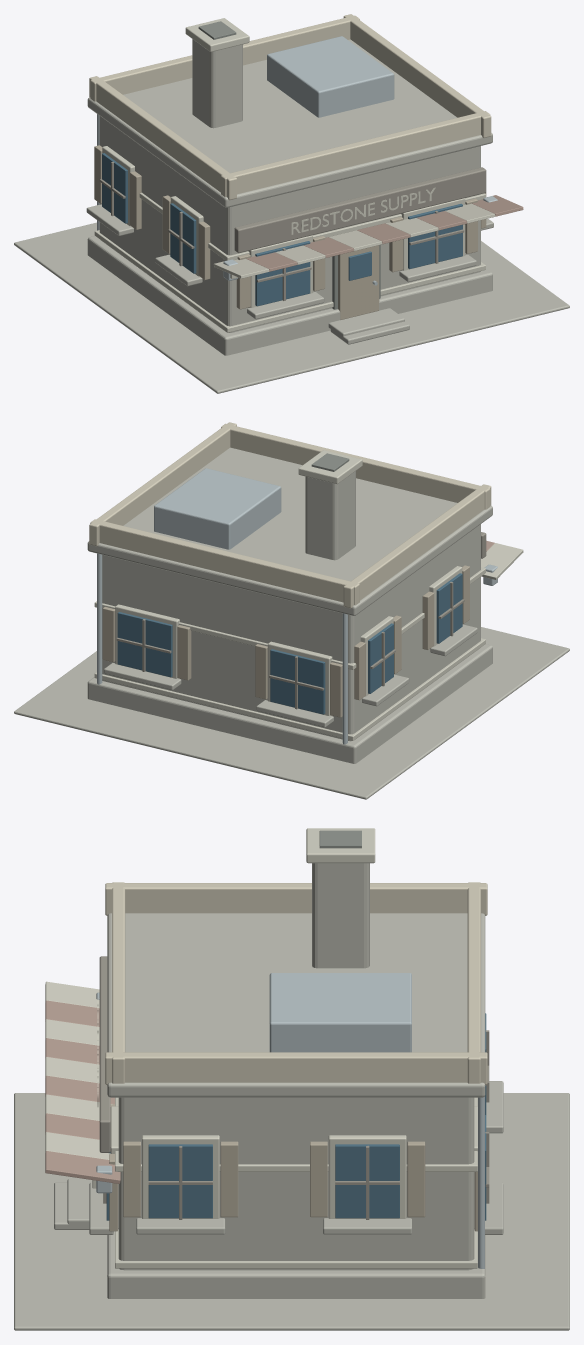
The model's file is district_art_5.glb.
3 views of the same model, one above another, from view 1: azimuth 30°, elevation 25°; view 2: azimuth 150°, elevation 25°; view 3: azimuth 270°, elevation 25° (orthographic). The views are drawn at different scales.
Parts seen in each view (by area): view 1: stone, plaster, trim, timber, metal, glass, wood, cloth, dark; view 2: stone, plaster, metal, trim, glass, wood, timber; view 3: stone, plaster, trim, metal, glass, wood, cloth, timber, dark.
Boxes of the visible parts, box(x1,y1,x2,y2) form: stone: box(14, 39, 569, 393); plaster: box(89, 14, 491, 200); trim: box(94, 18, 495, 332); timber: box(99, 161, 486, 300); metal: box(97, 36, 497, 285); glass: box(102, 153, 462, 306); wood: box(94, 145, 486, 319); cloth: box(246, 195, 523, 271); dark: box(198, 21, 380, 309); stone: box(14, 447, 569, 799); plaster: box(89, 422, 491, 608); metal: box(97, 468, 497, 744); trim: box(94, 450, 523, 740); glass: box(117, 573, 462, 714); wood: box(102, 565, 469, 717); timber: box(116, 532, 486, 709); stone: box(14, 863, 569, 1330); plaster: box(105, 882, 487, 1084); trim: box(45, 828, 477, 1268); metal: box(96, 973, 484, 1268); glass: box(106, 1013, 486, 1220); wood: box(109, 1104, 477, 1231); cloth: box(45, 1000, 120, 1183); timber: box(99, 956, 489, 1219); dark: box(319, 830, 361, 848).
Size of the model in its own units: 12.5 by 8.39 by 12.5.
